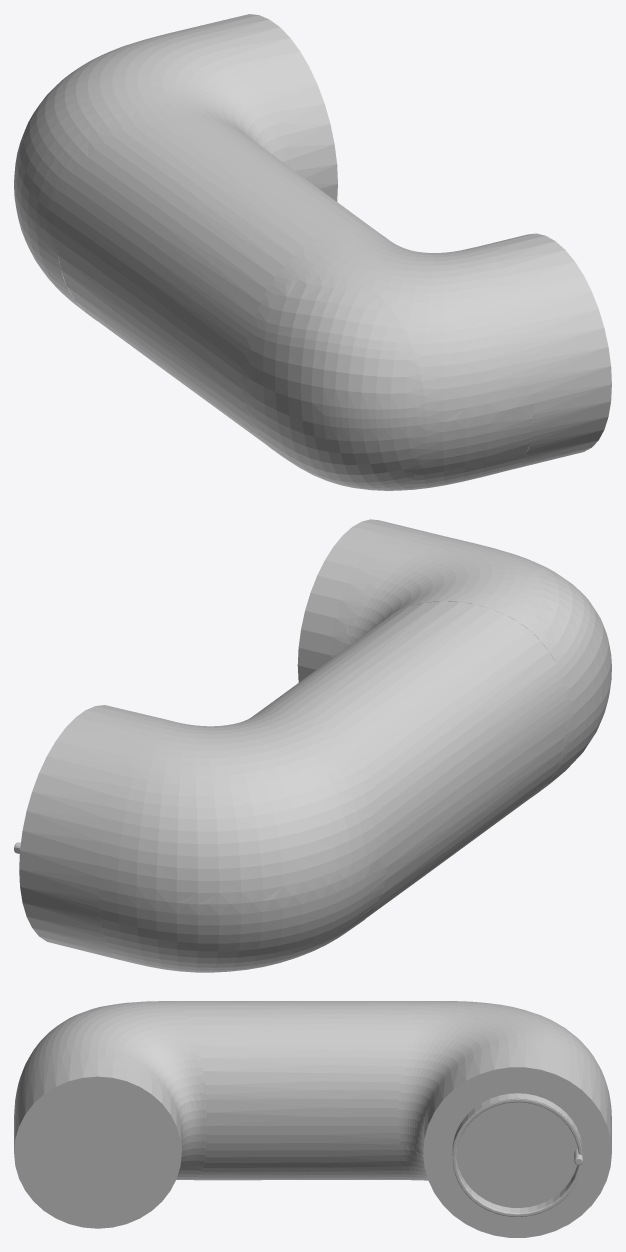
File: joint4.obj
The picture shows the model from 3 angles, top to bottom: view 1: azimuth 30°, elevation 25°; view 2: azimuth 150°, elevation 25°; view 3: azimuth 270°, elevation 25°; orthographic projection. The views are drawn at different scales.
Visible parts, largest first — view 1: Link4-mesh; view 2: Link4-mesh; view 3: Link4-mesh.
Boxes of the visible parts, box(x1,y1,x2,y2) form: Link4-mesh: box(14, 14, 611, 490); Link4-mesh: box(14, 519, 611, 972); Link4-mesh: box(14, 1001, 611, 1237).
Size of the model in its own units: 0.0578 by 0.0432 by 0.1368.
Materials: 1 (1 with a texture image).
